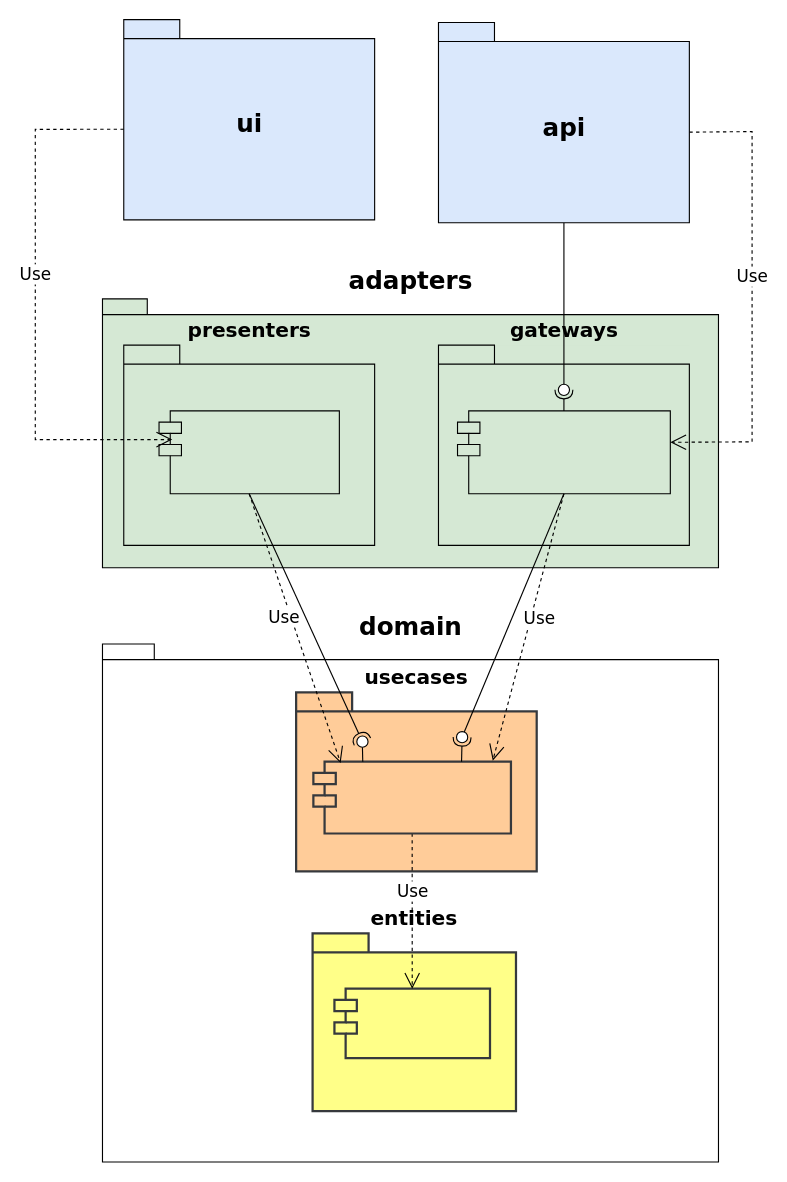
Some shapes in this 787 by 1182 pixel diagram are drawn without their labels. The centre of each missing label's shape, as x and y in pixels:
"Counter" goes at (412,1023).
"CounterInteractor" goes at (412,797).
"CounterPresenter" goes at (248,452).
"CounterRestGateway" goes at (563,452).
